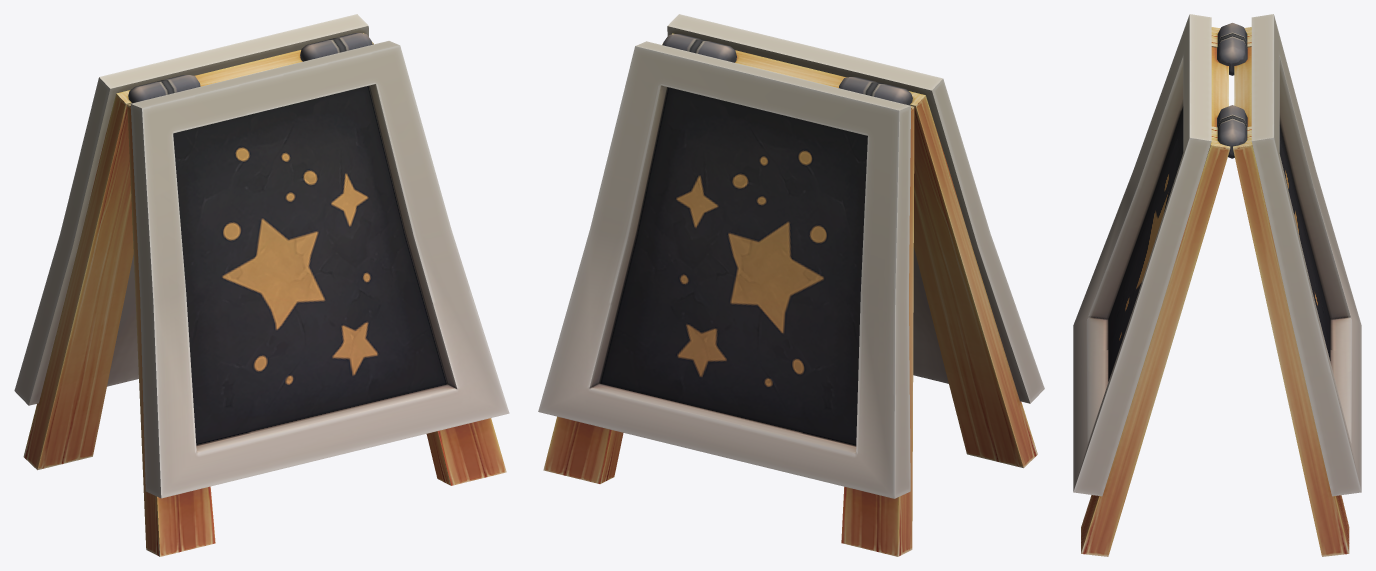
Rendered from SE_Sign.fbx.
3 views of the same model, side by side, from view 1: azimuth 30°, elevation 25°; view 2: azimuth 150°, elevation 25°; view 3: azimuth 270°, elevation 25° (orthographic). The views are drawn at different scales.
Parts seen in each view (by area): view 1: SE_Sign; view 2: SE_Sign; view 3: SE_Sign.
Boxes of the visible parts, x1,y1,x2,y2 form: SE_Sign: (14, 14, 509, 556); SE_Sign: (538, 14, 1044, 556); SE_Sign: (1073, 14, 1361, 556).
Bounding box in the file's own units: 3.1 × 3.4 × 2.25.
